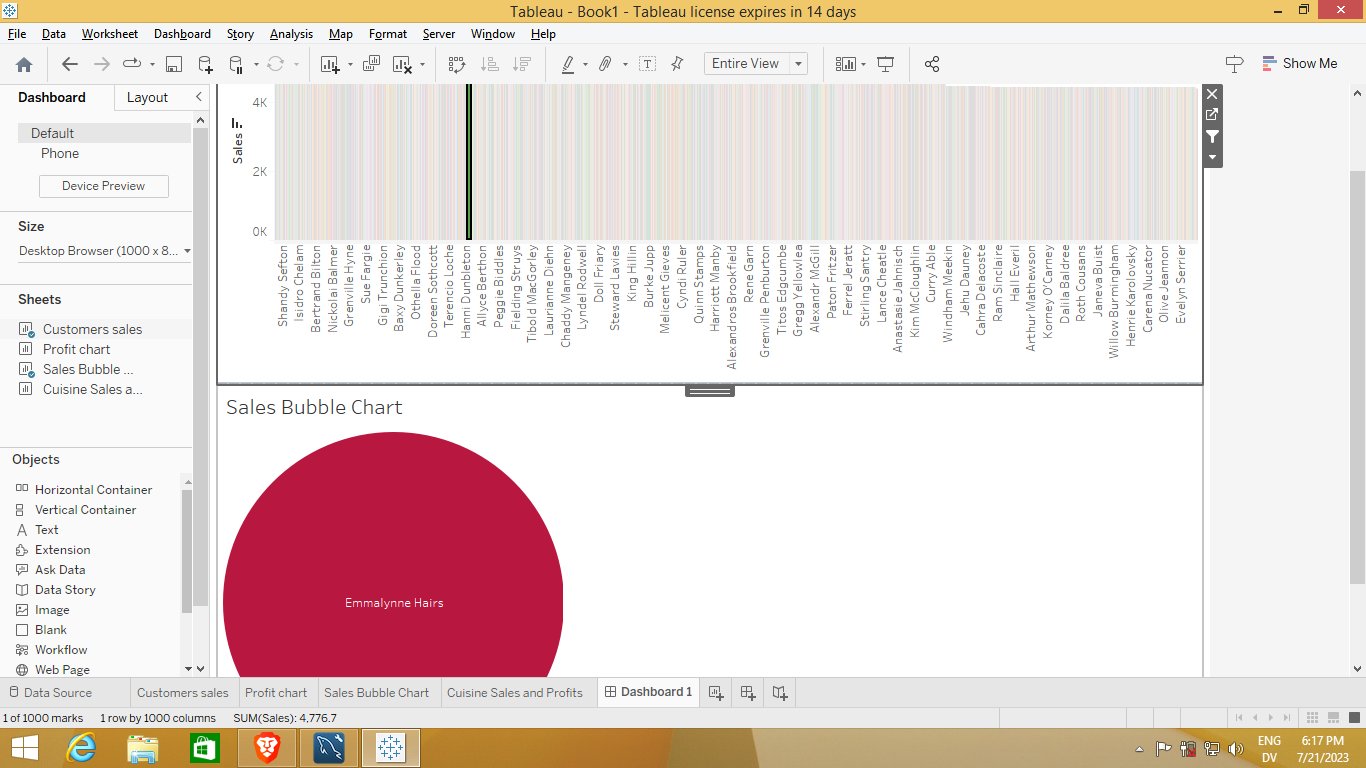

This screenshot's page, from the dashboard's own definition file:
{"tool":"tableau","page":{"name":"Dashboard 1","canvas":[1000,800],"ordinal":0},"visuals":[{"type":"worksheet","title":"Customers sales","mark":"Bar","rows":["Sales"],"cols":["Customer Name"],"box":[8,8,984,392]},{"type":"worksheet","title":"Sales Bubble Chart","mark":"Circle","box":[8,400,984,392]}]}

Visuals, with their boxes on the page's 1000x800 design canvas (x1, y1, x2, y2). These are canvas units, not pixel positions in the 1366x768 screenshot, which may show the page scaled, cropped or inside an application window:
"Customers sales" worksheet (Bar marks): (x1=8, y1=8, x2=992, y2=400)
"Sales Bubble Chart" worksheet (Circle marks): (x1=8, y1=400, x2=992, y2=792)
